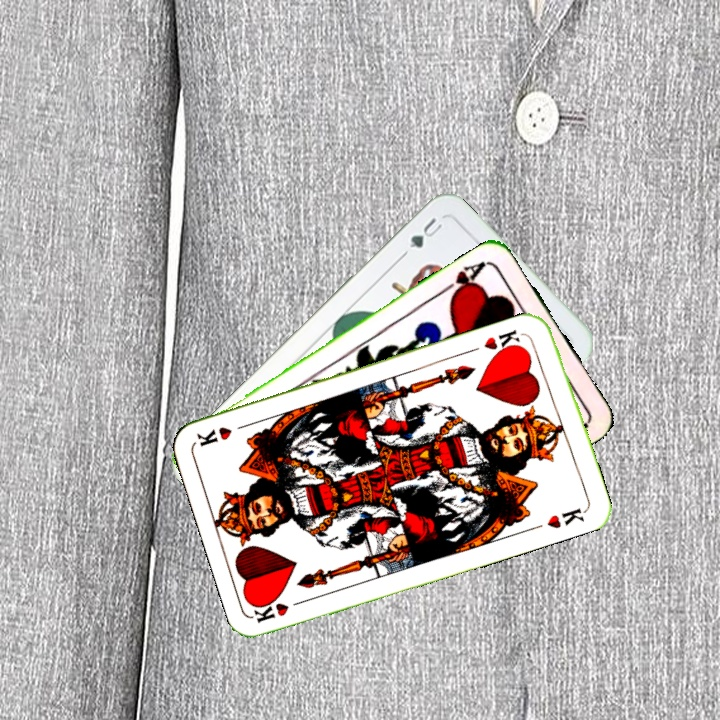GU: (405, 213, 445, 251)
HA: (438, 257, 490, 303)
HK: (251, 595, 310, 625), (480, 325, 525, 359)
